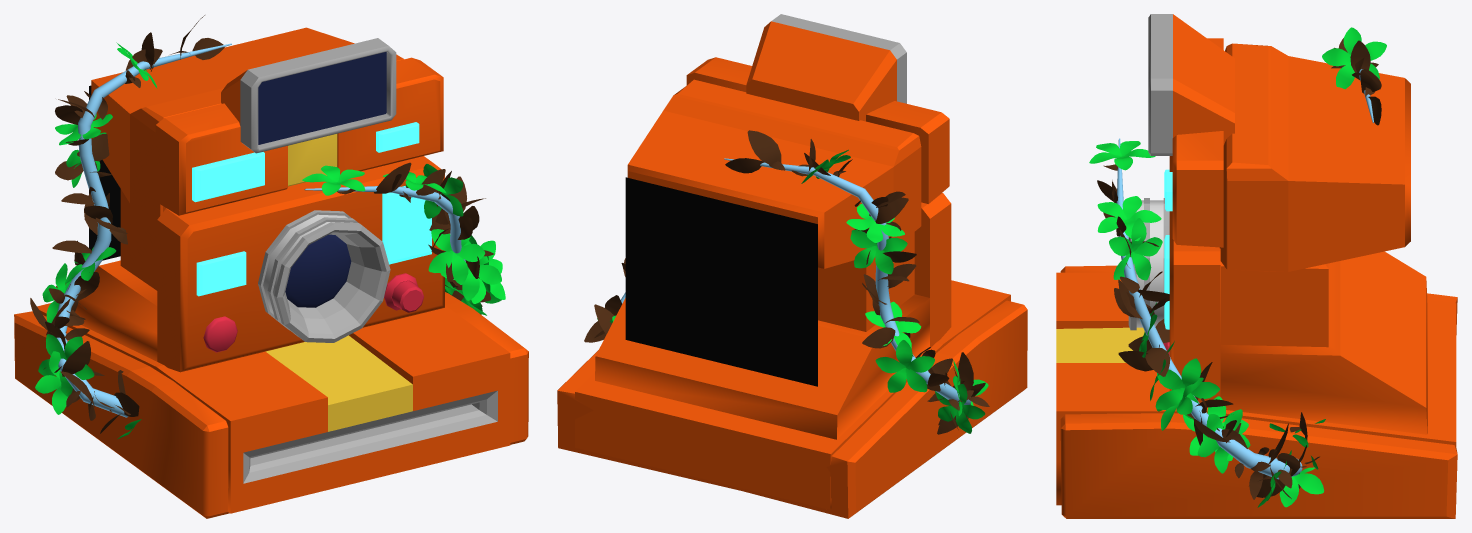
Rendered from 20220920vrcamera_.fbx.
The picture shows the model from 3 angles, left to right: view 1: azimuth 30°, elevation 25°; view 2: azimuth 150°, elevation 25°; view 3: azimuth 270°, elevation 25°; orthographic projection. The views are drawn at different scales.
Visible parts, largest first — view 1: Camera.001, Camera.008, NurbsPath.001, Camera.002, NurbsPath, Camera.005, Camera.007, Camera.003, Plane, Camera.006; view 2: Camera.001, Plane, NurbsPath.001, Camera.008, NurbsPath; view 3: Camera.001, NurbsPath, Camera.008, NurbsPath.001, Camera.005, Camera.006, Camera.007.
Boxes of the visible parts, <box> form: Camera.001: <box>14,27,528,518</box>; Camera.008: <box>240,38,497,483</box>; NurbsPath.001: <box>30,15,231,439</box>; Camera.002: <box>258,52,386,307</box>; NurbsPath: <box>302,162,505,315</box>; Camera.005: <box>265,134,412,431</box>; Camera.007: <box>192,122,431,296</box>; Camera.003: <box>203,273,423,352</box>; Plane: <box>89,85,120,260</box>; Camera.006: <box>263,214,352,318</box>; Camera.001: <box>557,21,1027,518</box>; Plane: <box>625,177,817,386</box>; NurbsPath.001: <box>724,130,989,434</box>; Camera.008: <box>771,14,906,103</box>; NurbsPath: <box>584,258,625,342</box>; Camera.001: <box>1056,14,1457,518</box>; NurbsPath: <box>1089,138,1325,507</box>; Camera.008: <box>1128,14,1172,330</box>; NurbsPath.001: <box>1322,27,1386,125</box>; Camera.005: <box>1056,327,1144,362</box>; Camera.006: <box>1136,200,1163,327</box>; Camera.007: <box>1164,169,1172,329</box>.
Bounding box in the file's own units: 21.69 × 18.49 × 17.07.
